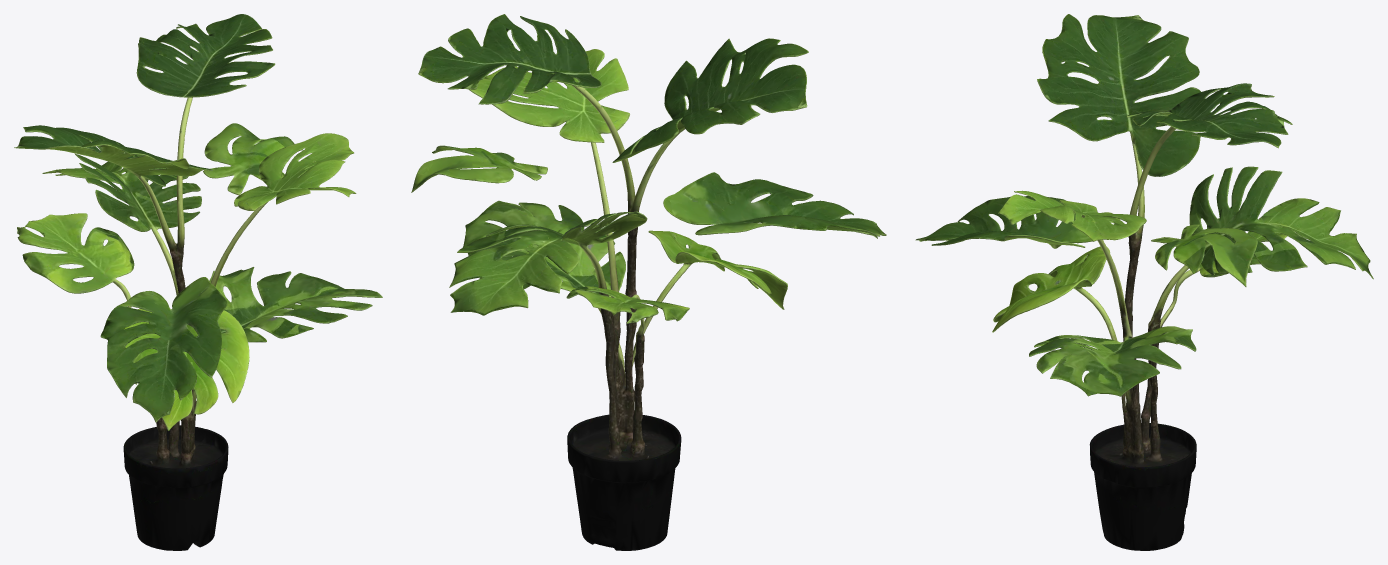
Rendered from plant.glb.
3 views of the same model, side by side, from view 1: azimuth 30°, elevation 25°; view 2: azimuth 150°, elevation 25°; view 3: azimuth 270°, elevation 25° (orthographic). The views are drawn at different scales.
Bounding box in the file's own units: 1.47 × 1.9 × 1.7.
1 material, 1 textured.
